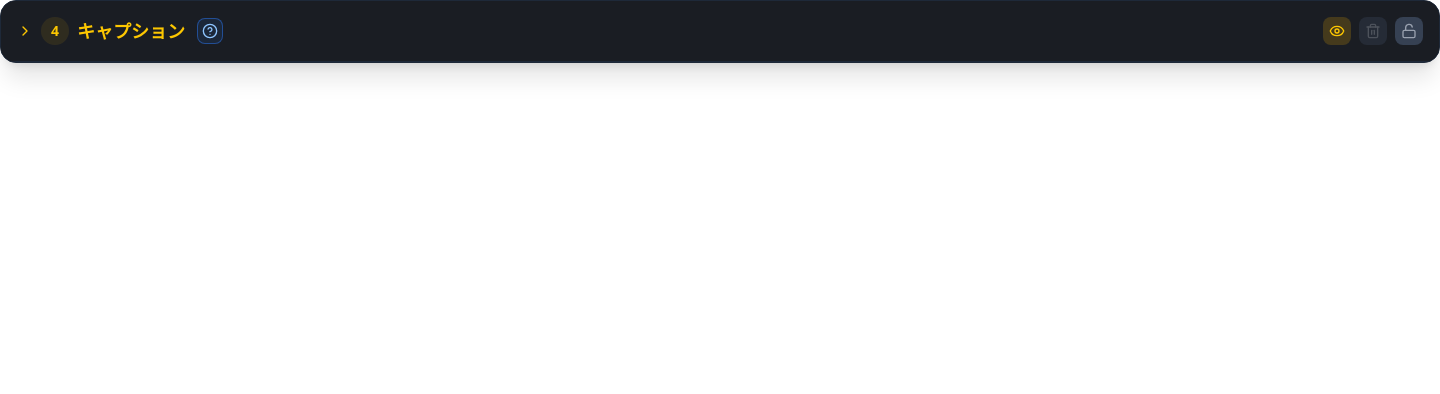
Test case: CaptionSection 内のタイトル配置（Issue #211） › キャプションセクションにはタイトル設定を置かない
What coordinates should you click on to do the following:
click the heading "4 キャプション"
I would click on:
 (120, 31)
Its box is [17,17,223,45].
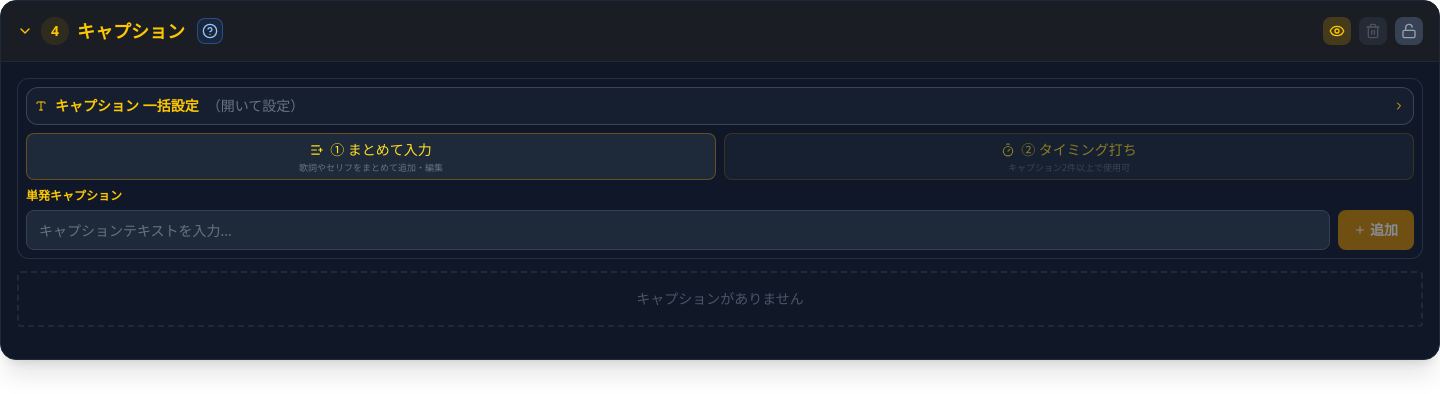
Result: the button "キャプション 一括設定 （開いて設定）" is shown at [27,88,1413,124]
